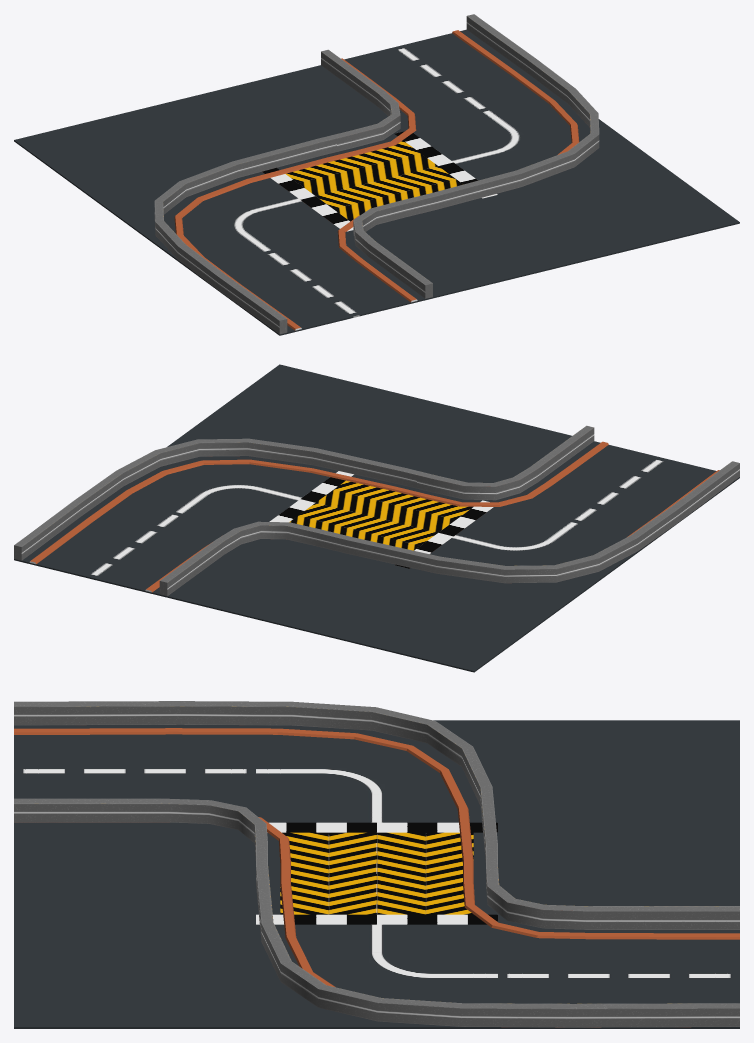
File: kartkids_base_trk_550_chicane_90_l_3x3.gltf
3 views of the same model, one above another, from view 1: azimuth 30°, elevation 25°; view 2: azimuth 150°, elevation 25°; view 3: azimuth 270°, elevation 25° (orthographic). The views are drawn at different scales.
Parts seen in each view (by area): view 1: kartkids_base_trk_550_chicane_90_l_3x3.002, kartkids_base_trk_550_chicane_90_l_3x3.003, kartkids_base_trk_550_chicane_90_l_3x3.001, kartkids_base_trk_550_chicane_90_l_3x3, kartkids_base_trk_550_chicane_90_l_3x3.004; view 2: kartkids_base_trk_550_chicane_90_l_3x3.002, kartkids_base_trk_550_chicane_90_l_3x3.003, kartkids_base_trk_550_chicane_90_l_3x3.001, kartkids_base_trk_550_chicane_90_l_3x3.004, kartkids_base_trk_550_chicane_90_l_3x3; view 3: kartkids_base_trk_550_chicane_90_l_3x3.002, kartkids_base_trk_550_chicane_90_l_3x3.001, kartkids_base_trk_550_chicane_90_l_3x3.003, kartkids_base_trk_550_chicane_90_l_3x3, kartkids_base_trk_550_chicane_90_l_3x3.004.
Part boxes in pixels (bbox=[...]): kartkids_base_trk_550_chicane_90_l_3x3.002: bbox=[14, 29, 739, 335]; kartkids_base_trk_550_chicane_90_l_3x3.003: bbox=[154, 135, 432, 334]; kartkids_base_trk_550_chicane_90_l_3x3.001: bbox=[321, 14, 599, 213]; kartkids_base_trk_550_chicane_90_l_3x3: bbox=[174, 154, 417, 330]; kartkids_base_trk_550_chicane_90_l_3x3.004: bbox=[341, 30, 579, 157]; kartkids_base_trk_550_chicane_90_l_3x3.002: bbox=[14, 364, 739, 672]; kartkids_base_trk_550_chicane_90_l_3x3.003: bbox=[332, 425, 739, 583]; kartkids_base_trk_550_chicane_90_l_3x3.001: bbox=[14, 438, 420, 596]; kartkids_base_trk_550_chicane_90_l_3x3.004: bbox=[29, 459, 411, 592]; kartkids_base_trk_550_chicane_90_l_3x3: bbox=[408, 441, 719, 536]; kartkids_base_trk_550_chicane_90_l_3x3.002: bbox=[14, 720, 739, 1028]; kartkids_base_trk_550_chicane_90_l_3x3.001: bbox=[256, 855, 739, 1027]; kartkids_base_trk_550_chicane_90_l_3x3.003: bbox=[14, 701, 497, 862]; kartkids_base_trk_550_chicane_90_l_3x3: bbox=[14, 728, 473, 872]; kartkids_base_trk_550_chicane_90_l_3x3.004: bbox=[280, 871, 739, 987].
Size of the model in its own units: 30.1 by 0.9339 by 30.
2 materials, 2 textured.
